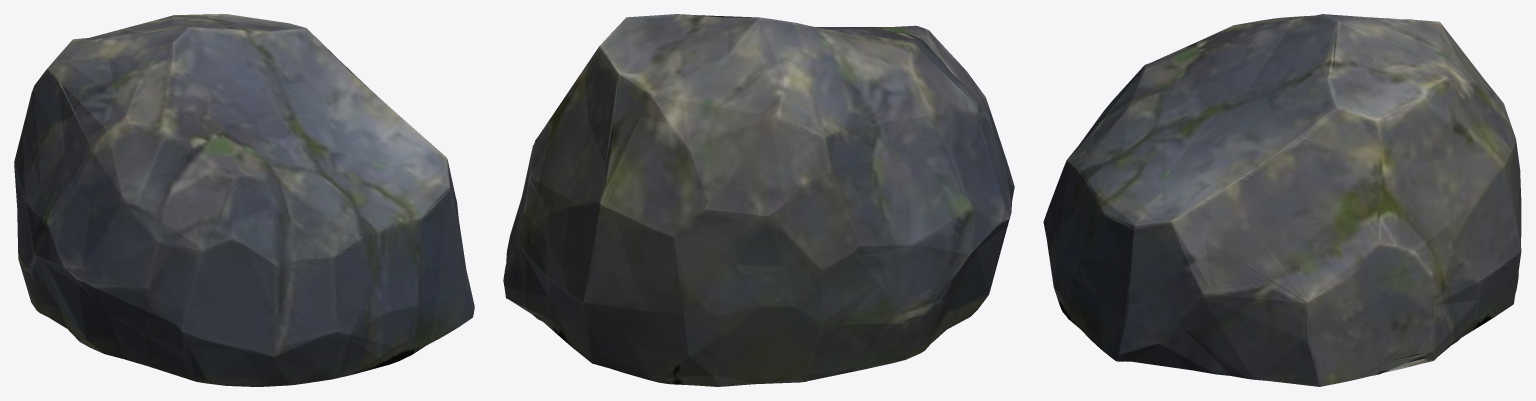
Rendered from rock_granite_xl_a.glb.
3 views of the same model, side by side, from view 1: azimuth 30°, elevation 25°; view 2: azimuth 150°, elevation 25°; view 3: azimuth 270°, elevation 25° (orthographic). The views are drawn at different scales.
Visible parts, largest first — view 1: rock_granite_xl_a; view 2: rock_granite_xl_a; view 3: rock_granite_xl_a.
Boxes of the visible parts, left/top/right/bottom form: rock_granite_xl_a: left=14, top=14, right=474, bottom=386; rock_granite_xl_a: left=503, top=14, right=1014, bottom=386; rock_granite_xl_a: left=1043, top=14, right=1521, bottom=386.
Bounding box in the file's own units: 2.81 × 1.71 × 2.91.
Materials: 1 (1 with a texture image).
